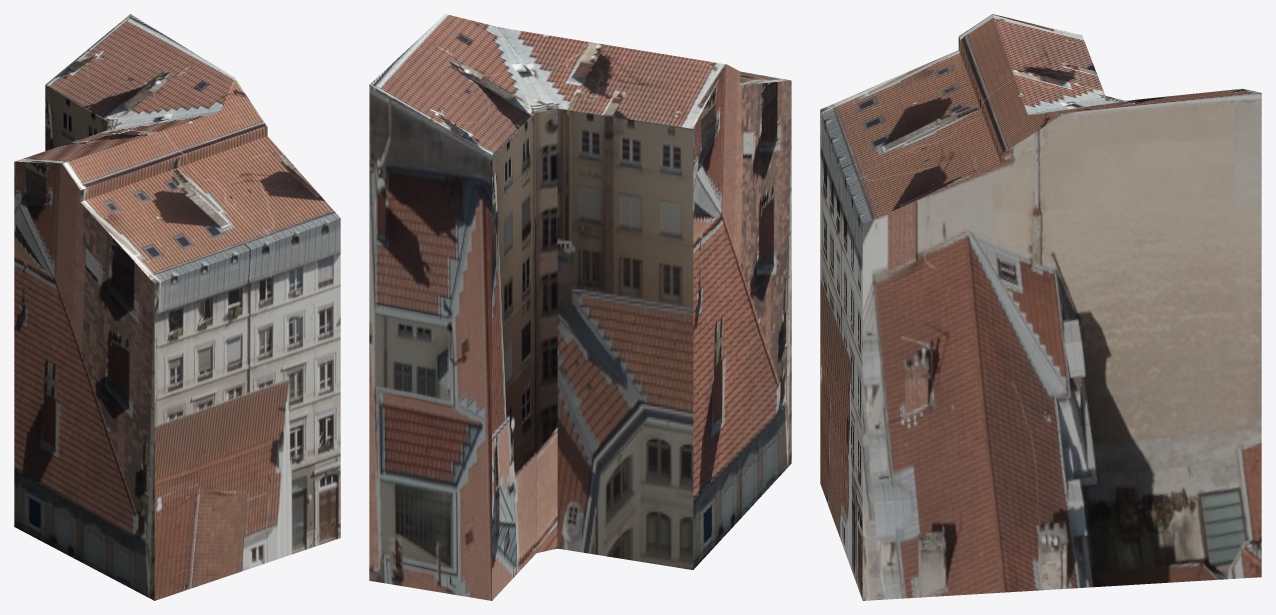
3 views of the same model, side by side, from view 1: azimuth 30°, elevation 25°; view 2: azimuth 150°, elevation 25°; view 3: azimuth 270°, elevation 25° (orthographic). The views are drawn at different scales.
Parts seen in each view (by area): view 1: Z_UP; view 2: Z_UP; view 3: Z_UP.
Boxes of the visible parts, x1,y1,x2,y2 form: Z_UP: (14,14,340,600); Z_UP: (369,14,791,600); Z_UP: (820,14,1261,600).
Size of the model in its own units: 16.38 by 27.51 by 22.73.
Materials: 2 (1 with a texture image).
